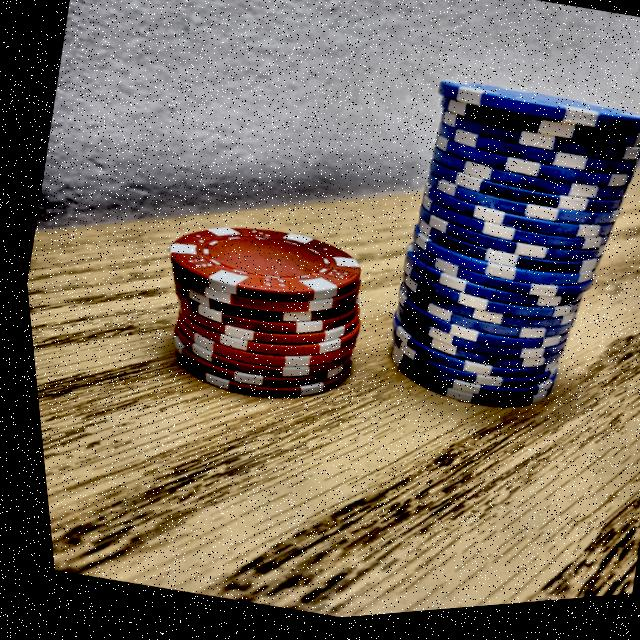Chip: (332, 45, 640, 456), (117, 172, 397, 449)
